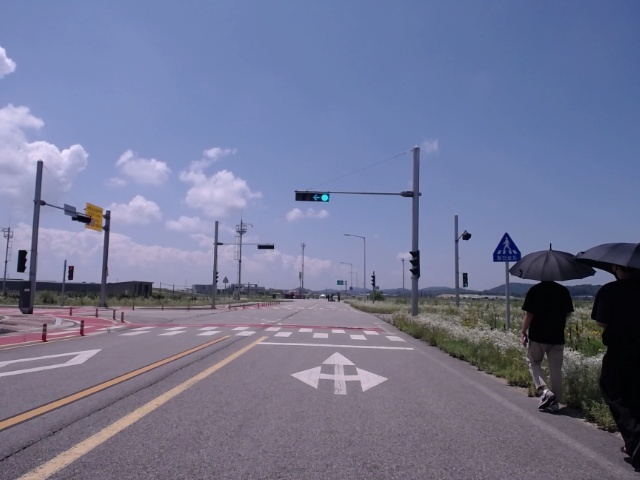all_green_4: (295, 188, 333, 204)
